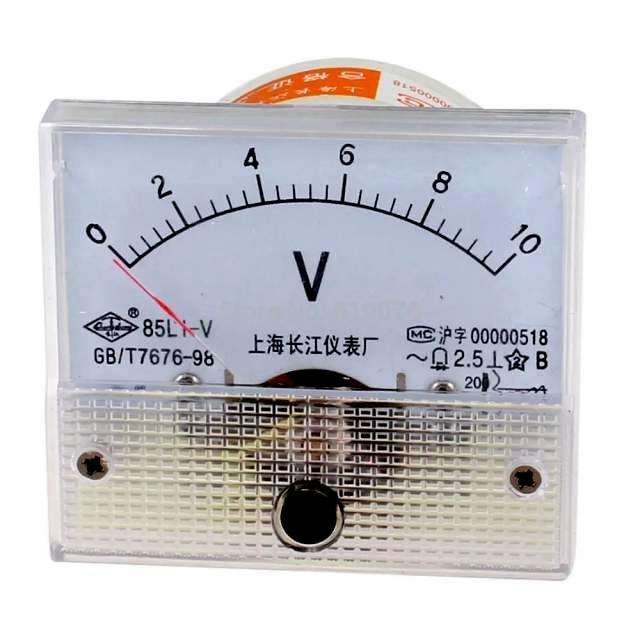Needle_Tip: (108, 254, 156, 301)
Needle_base: (219, 372, 409, 499)
max_value: (500, 208, 550, 276)
min_value: (78, 212, 120, 254)
